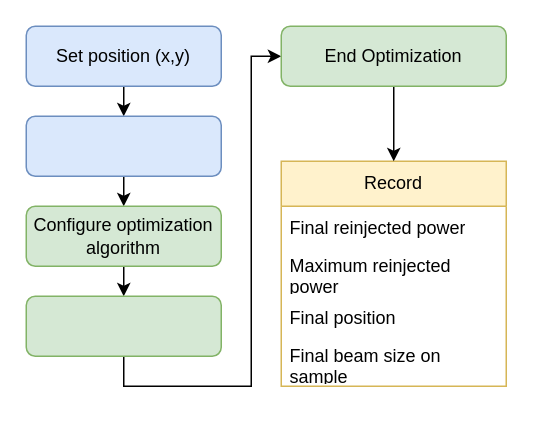
Some shapes in this 533 by 425 pixel diagram are drawn without their labels. The centre of each missing label's shape, as x and y in pixels:
Reset angle controllable: (123,145)
Start Optimization: (123,325)
